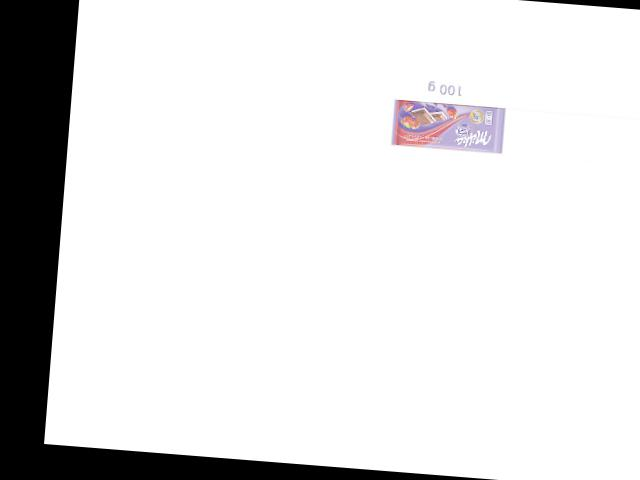chocolate: (390, 93, 505, 154)
